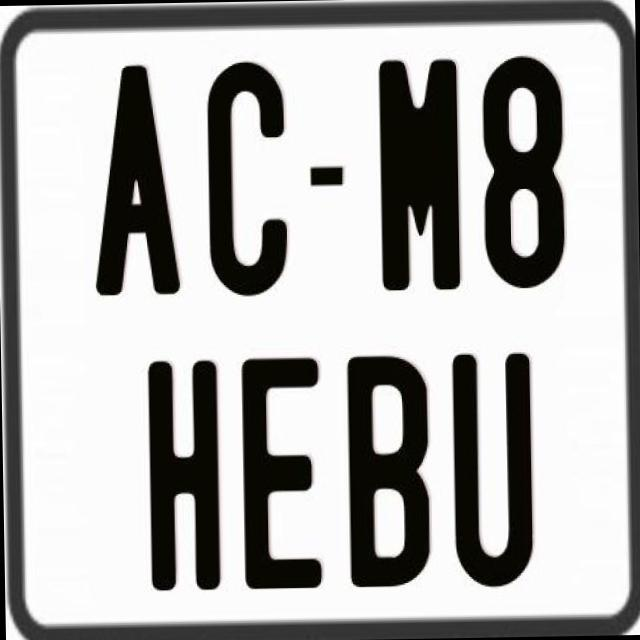8: (477, 51, 565, 286)
A: (90, 59, 182, 296)
B: (346, 350, 436, 590)
C: (203, 56, 293, 294)
E: (240, 356, 328, 594)
H: (143, 356, 215, 588)
M: (376, 54, 458, 286)
U: (450, 353, 539, 594)
